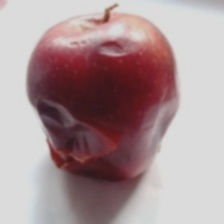apple: (15, 49, 203, 208)
